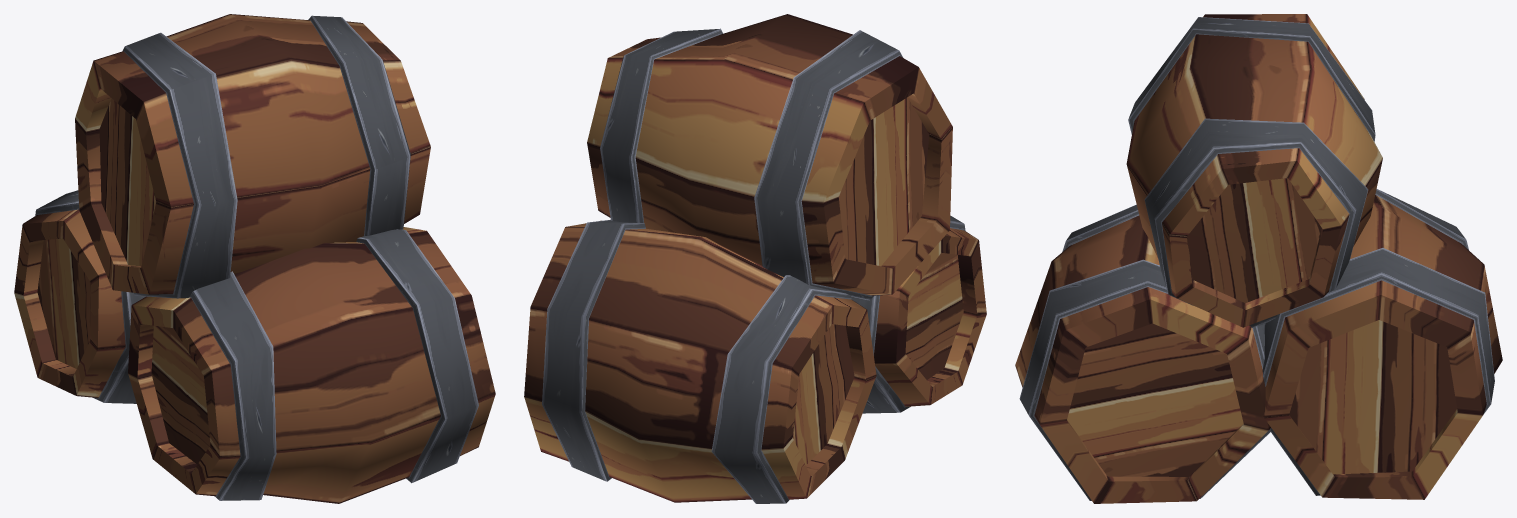
File: tonneau-5.glb
The picture shows the model from 3 angles, left to right: view 1: azimuth 30°, elevation 25°; view 2: azimuth 150°, elevation 25°; view 3: azimuth 270°, elevation 25°; orthographic projection. The views are drawn at different scales.
Parts seen in each view (by area): view 1: SM_PROP_barrel_06; view 2: SM_PROP_barrel_06; view 3: SM_PROP_barrel_06.
Part boxes in pixels (box(x1,y1,x2,y2)): SM_PROP_barrel_06: box(14, 14, 495, 503); SM_PROP_barrel_06: box(524, 14, 986, 503); SM_PROP_barrel_06: box(1015, 14, 1502, 503).
Size of the model in its own units: 0.9295 by 1.24 by 1.4.
Materials: 2 (2 with a texture image).
